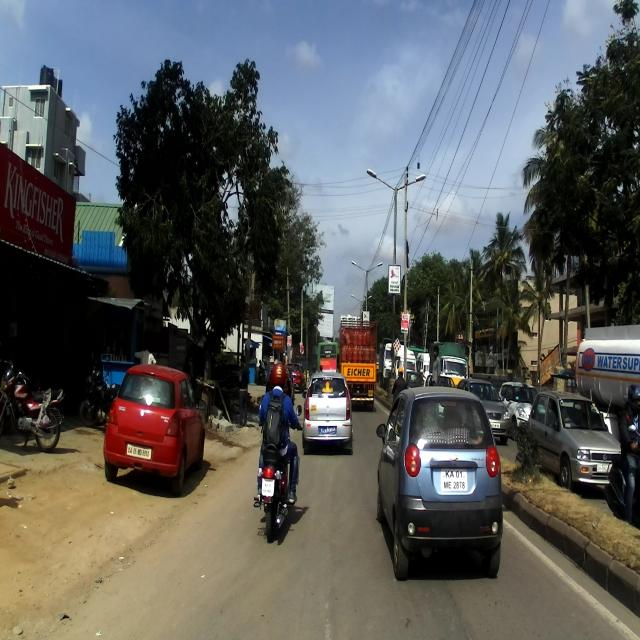car: (375, 388, 503, 580), (102, 365, 208, 495), (526, 391, 622, 491), (300, 373, 358, 453)
motorcycle: (255, 404, 306, 544), (0, 357, 61, 457)
scooter: (602, 426, 638, 529)
truck: (338, 318, 376, 410)
